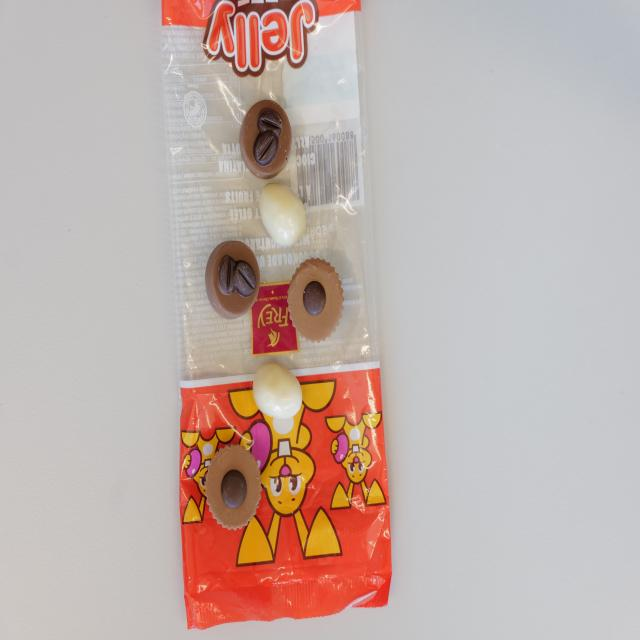Arabia: (207, 238, 260, 321), (242, 98, 292, 178)
Jelly_White: (258, 179, 309, 252), (255, 358, 303, 425)
Noblesse: (289, 256, 344, 341), (208, 445, 261, 529)
